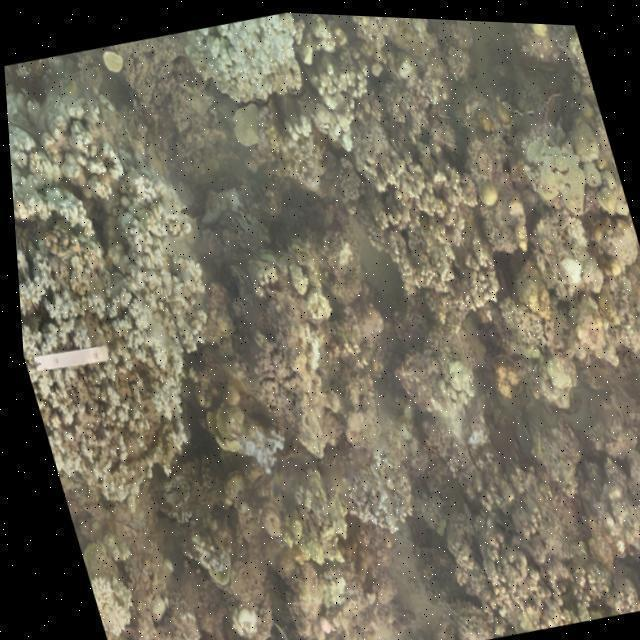Bleached Coral: (182, 7, 314, 117), (80, 567, 139, 640)
